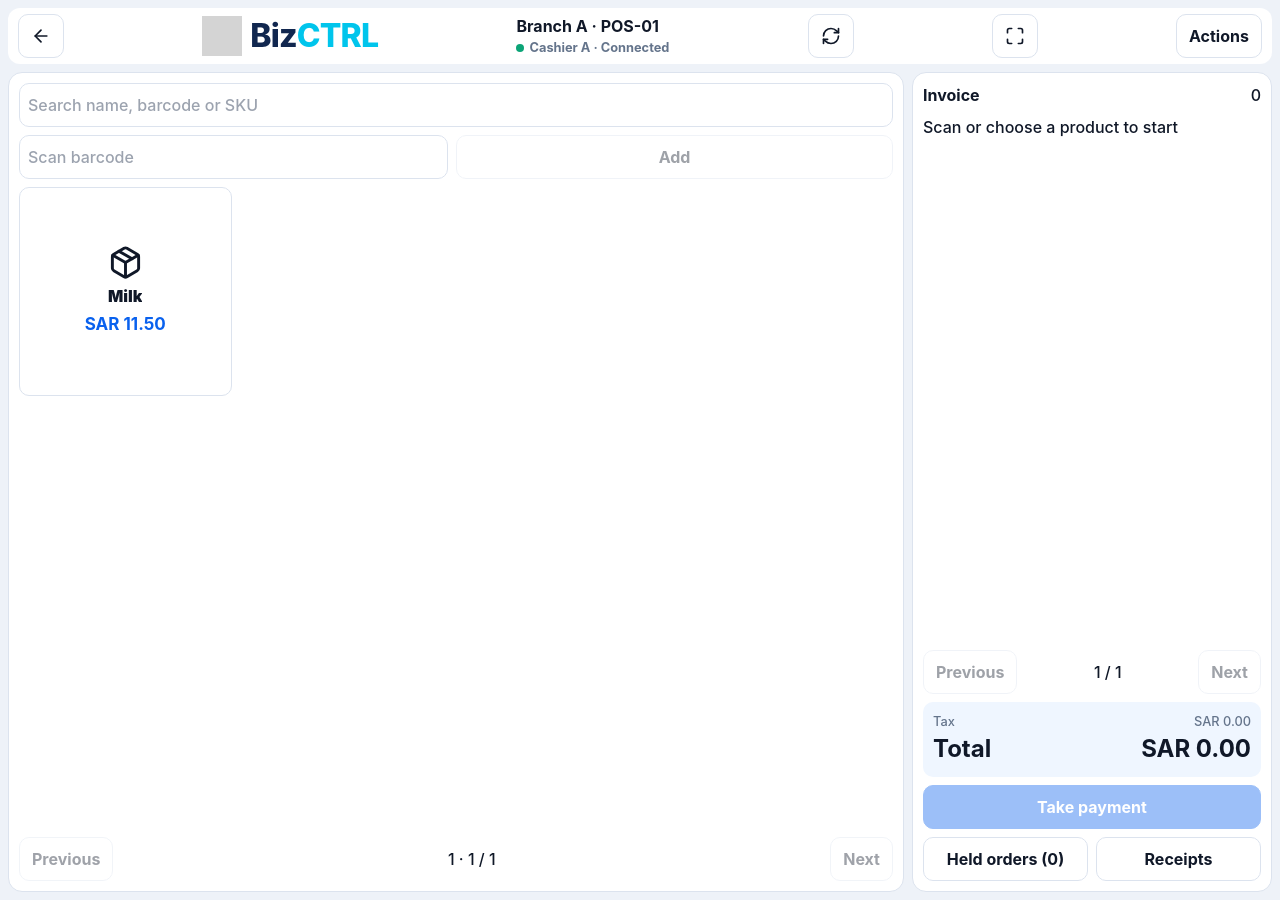
Test: cashier screen integration › renders four working tabs and opens customer pairing controls
Step 1. Click the button named "Back to workspace" → (41, 36), box [18,14,64,58]
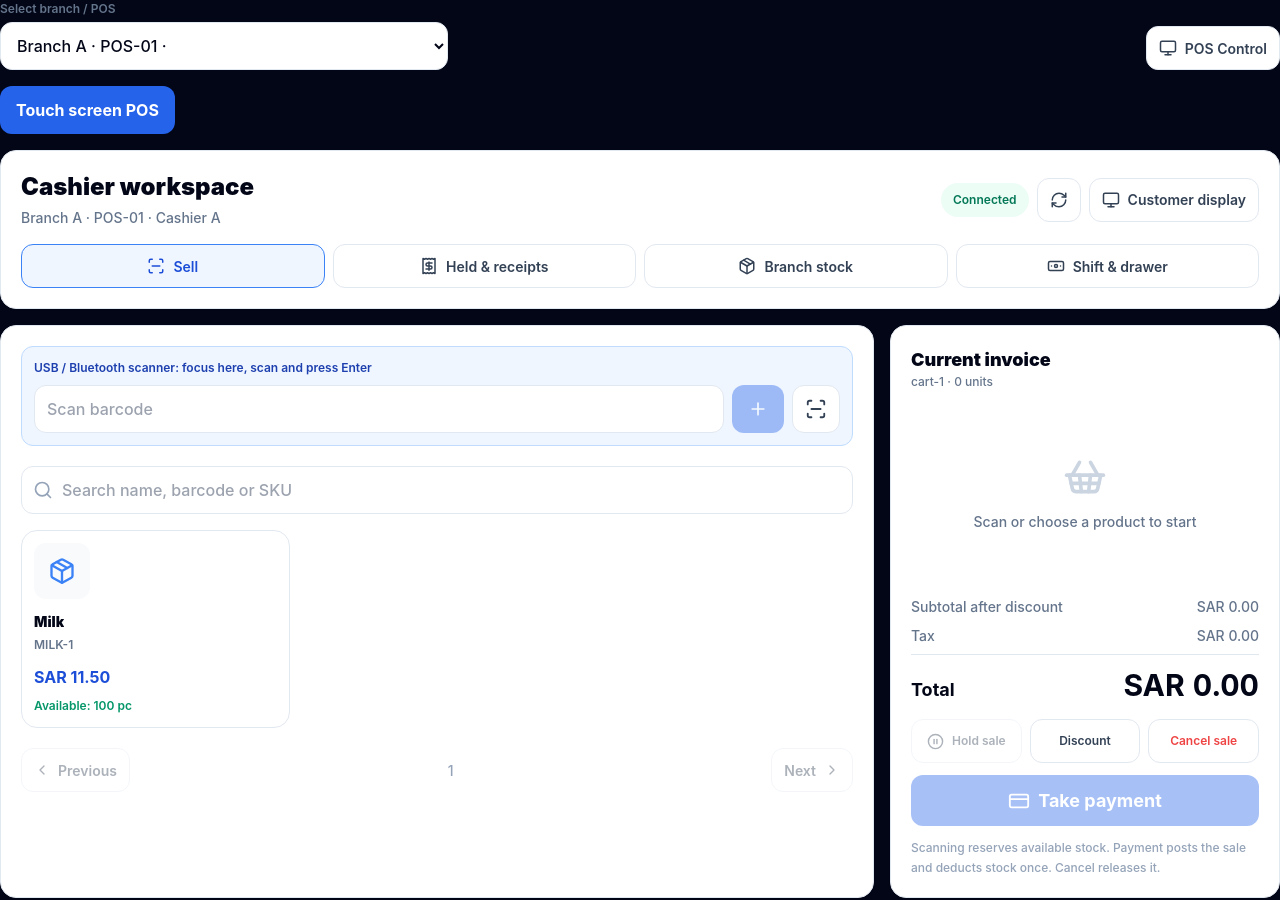
Result: the button "Held & receipts" is shown
Step 2. Click the button "Held & receipts" → (484, 266), box [332,244,636,288]
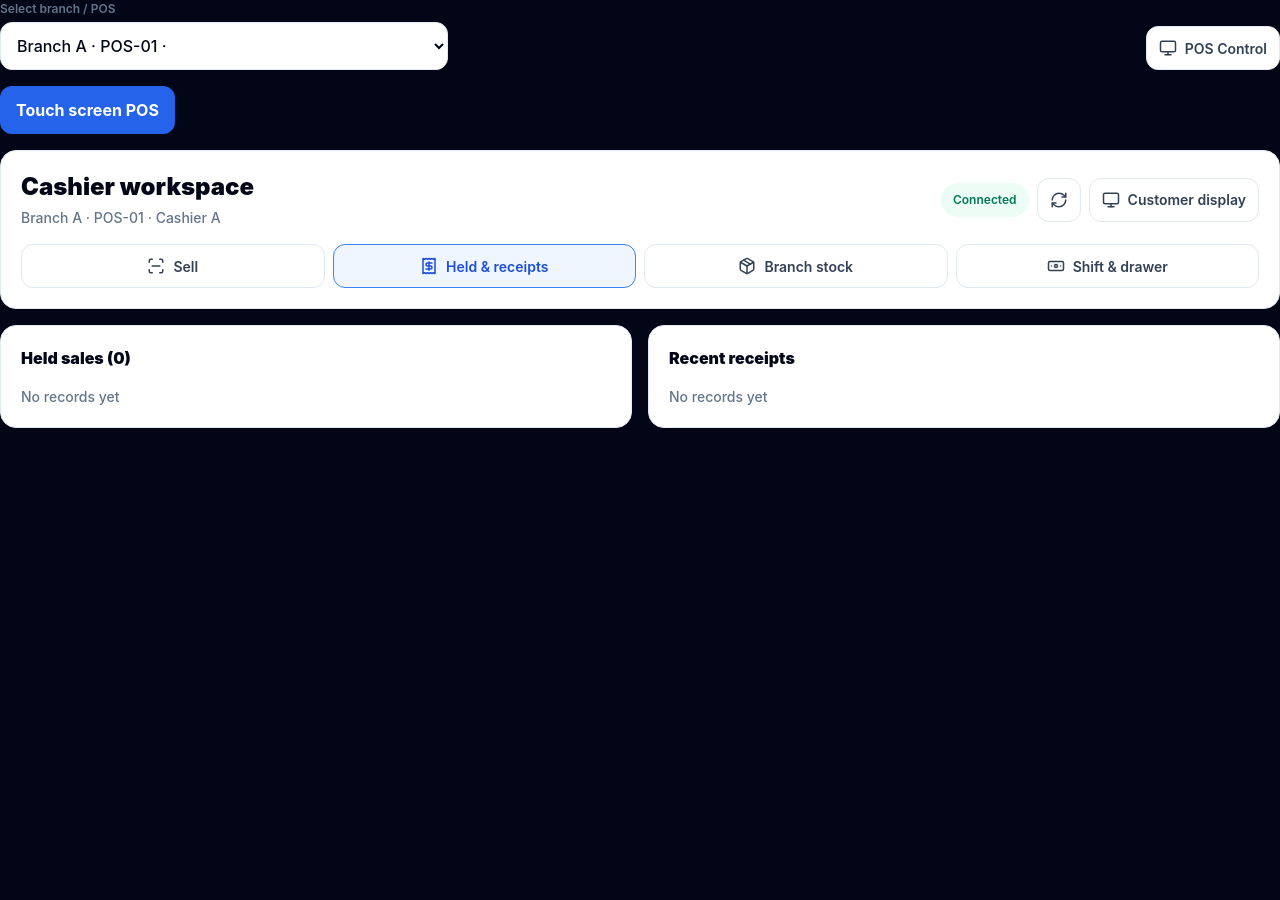
Result: the button "Branch stock" is shown
Result: the text "Recent receipts" is shown at [669,348,795,368]
Step 3. Click the button "Branch stock" → (796, 266), box [644,244,948,288]
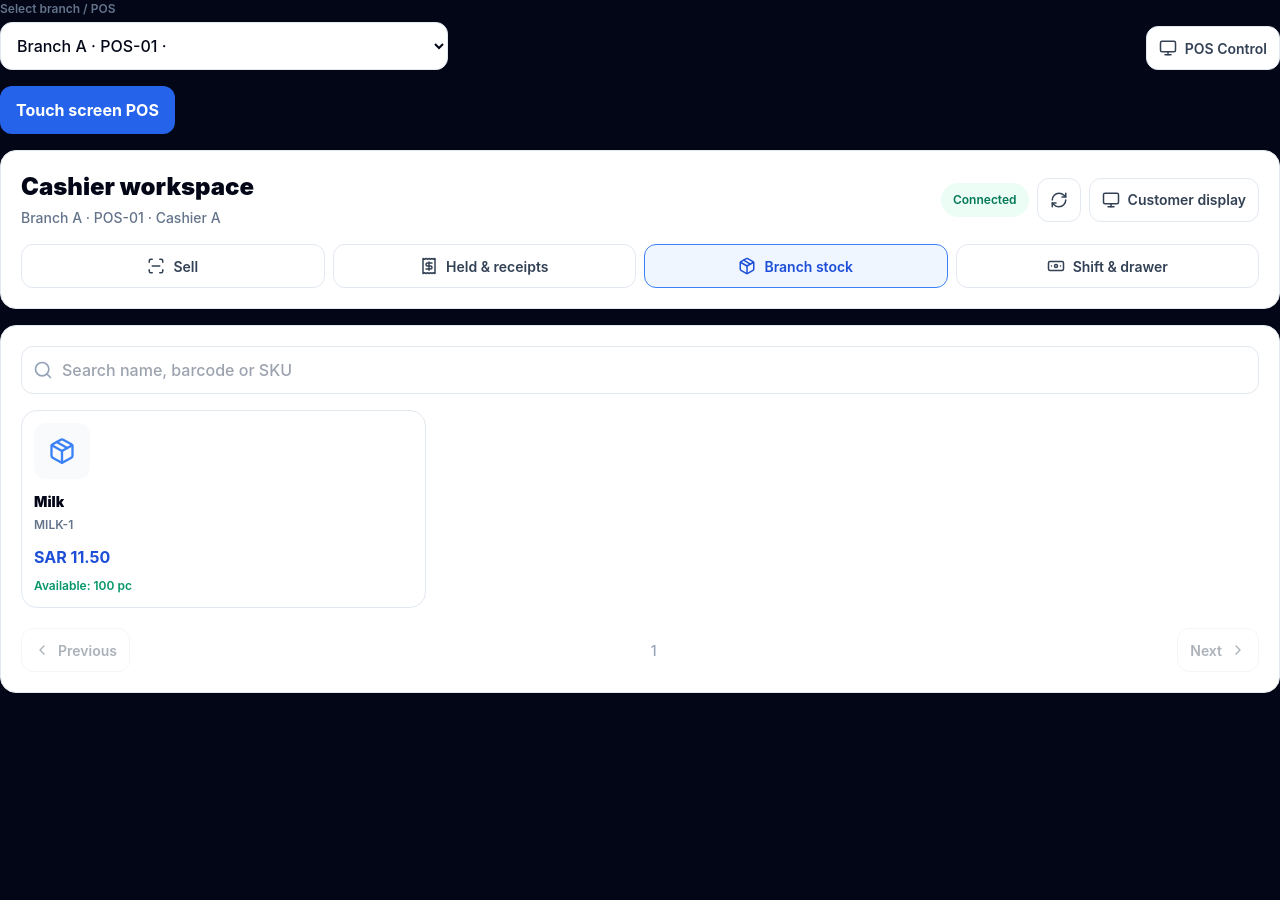
Result: the button "Shift & drawer" is shown
Result: the text "Available: 100" is shown at [34,577,132,595]
Step 4. Click the button "Shift & drawer" → (1107, 266), box [956,244,1259,288]
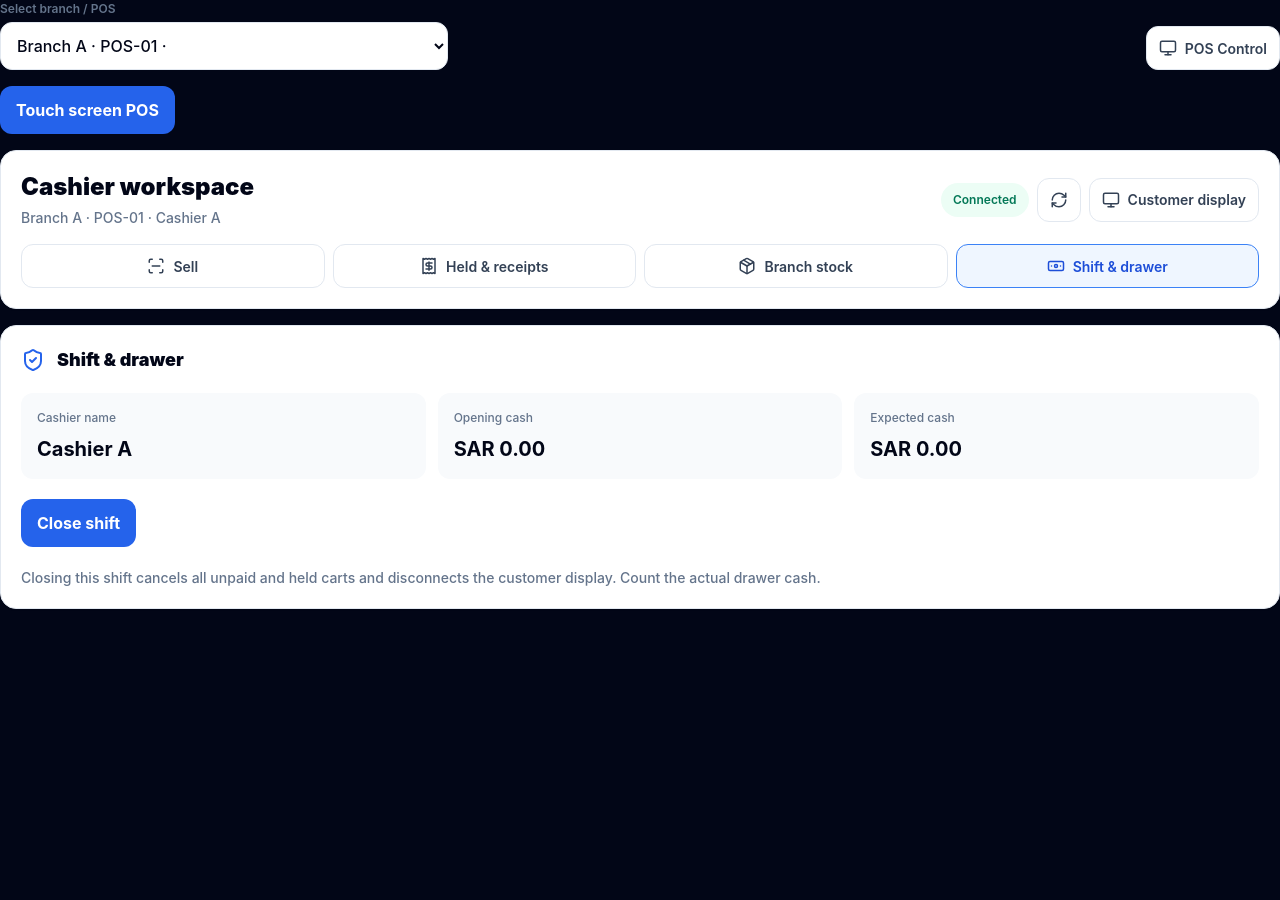
Result: the button "Sell" is shown
Result: the text "Expected cash" is shown at [870,410,955,425]
Step 5. Click the button "Sell" → (173, 266), box [21,244,324,288]
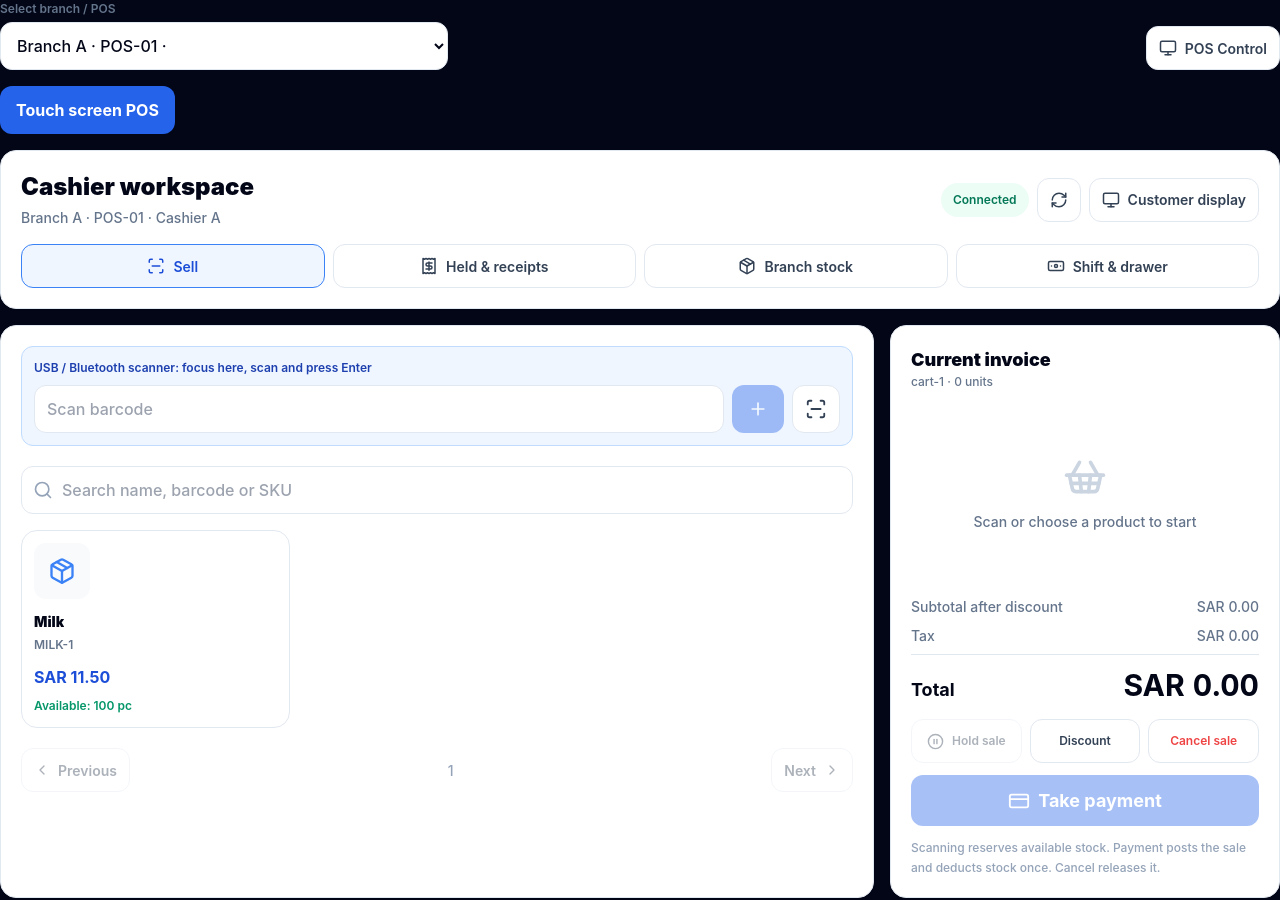
Result: the button "Customer display" is shown
Step 6. Click the button "Customer display" → (1174, 200), box [1089,178,1259,222]
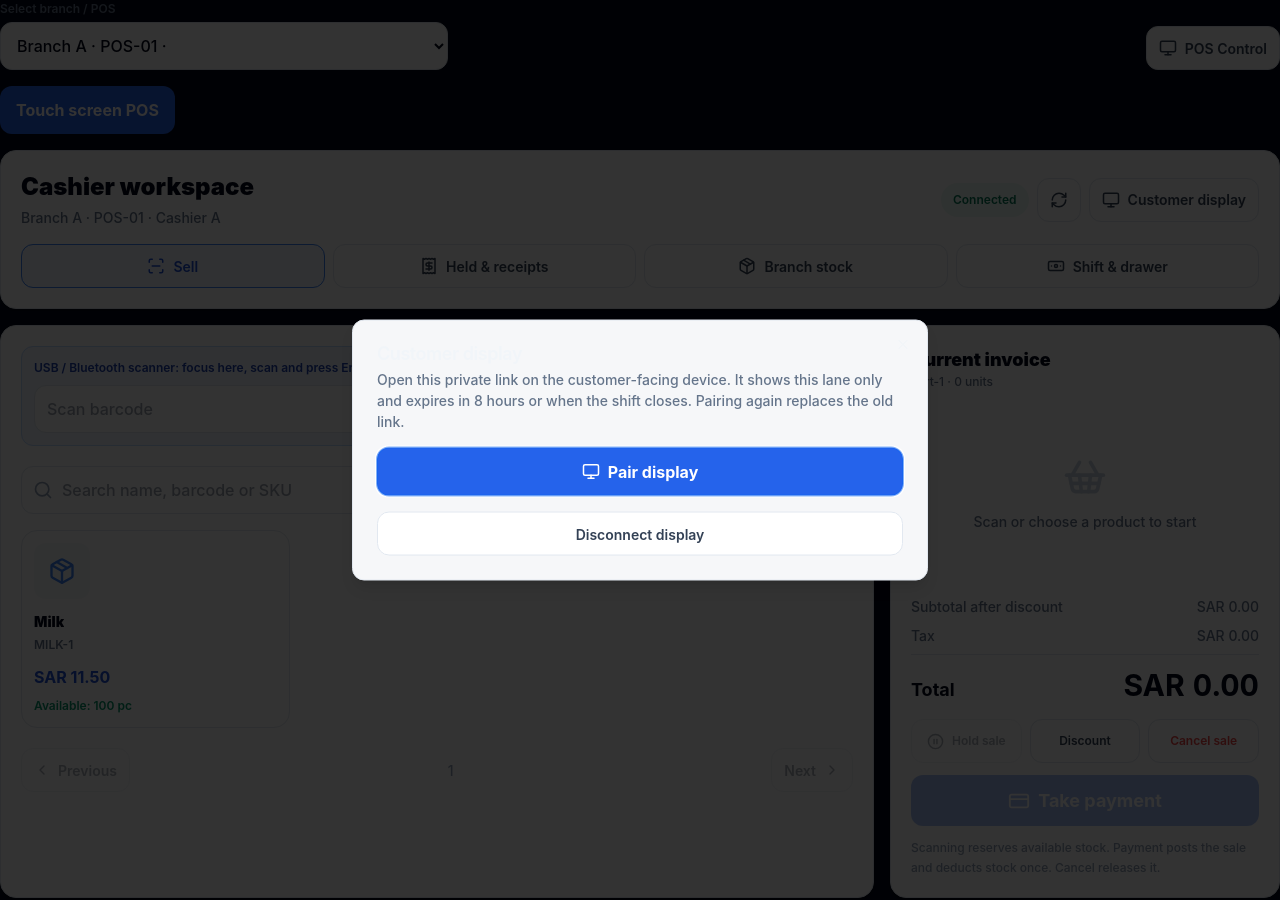
Result: the text "Pair display" is shown at [377,448,903,496]
